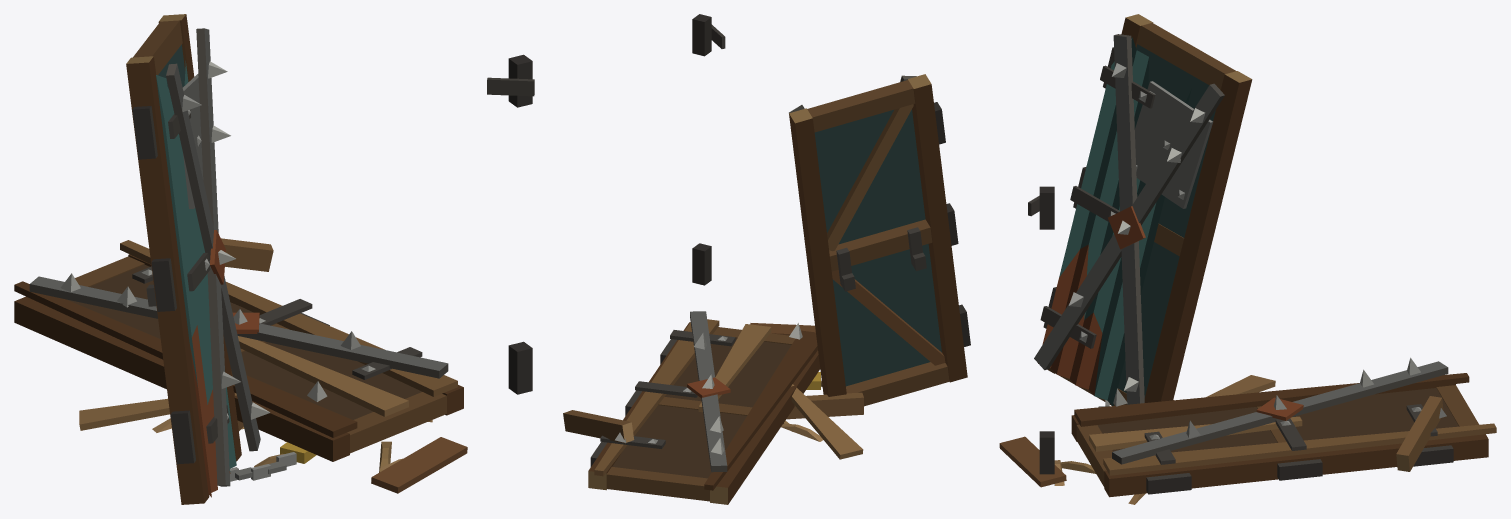
File: portao_quebrado.glb
The picture shows the model from 3 angles, left to right: view 1: azimuth 30°, elevation 25°; view 2: azimuth 150°, elevation 25°; view 3: azimuth 270°, elevation 25°; orthographic projection. The views are drawn at different scales.
Parts seen in each view (by area): view 1: portao_quebrado.001; view 2: portao_quebrado.001; view 3: portao_quebrado.001.
Part boxes in pixels (bbox=[...]): portao_quebrado.001: bbox=[14, 14, 534, 504]; portao_quebrado.001: bbox=[563, 14, 970, 504]; portao_quebrado.001: bbox=[999, 14, 1496, 504].
Bounding box in the file's own units: 1.72 × 2.03 × 2.47.
